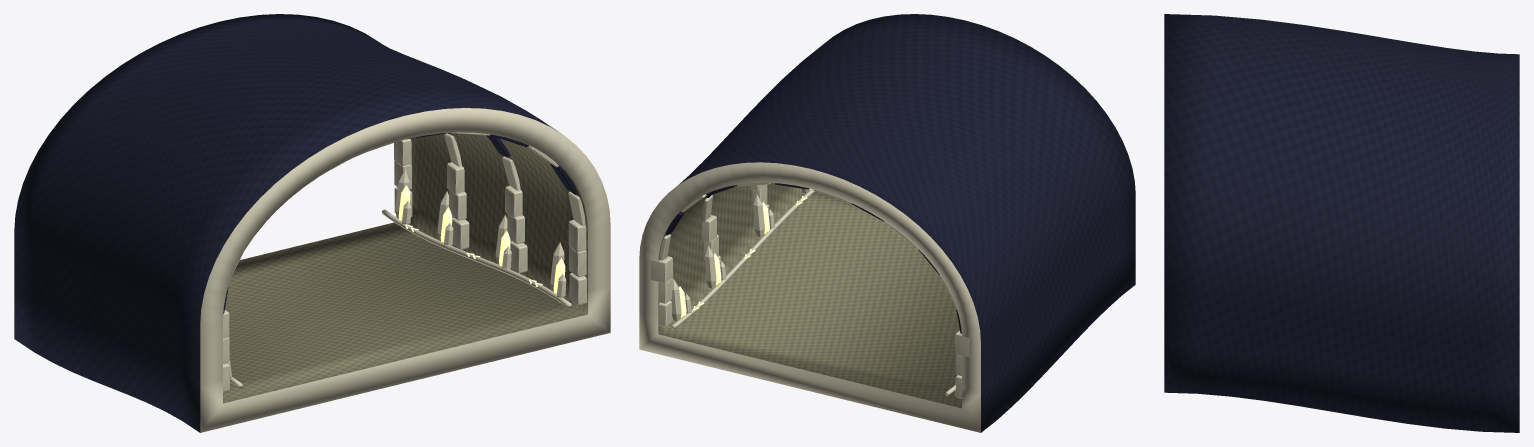
The model's file is grade_down_lod1.glb.
3 views of the same model, side by side, from view 1: azimuth 30°, elevation 25°; view 2: azimuth 150°, elevation 25°; view 3: azimuth 270°, elevation 25° (orthographic). The views are drawn at different scales.
Visible parts, largest first — view 1: TunnelGeometry.001; view 2: TunnelGeometry.001; view 3: TunnelGeometry.001.
Boxes of the visible parts, left/top/right/bottom form: TunnelGeometry.001: left=14, top=14, right=610, bottom=432; TunnelGeometry.001: left=639, top=14, right=1135, bottom=432; TunnelGeometry.001: left=1164, top=14, right=1519, bottom=432.
Bounding box in the file's own units: 15.3 × 11.02 × 12.
Materials: 4 (2 with a texture image).
